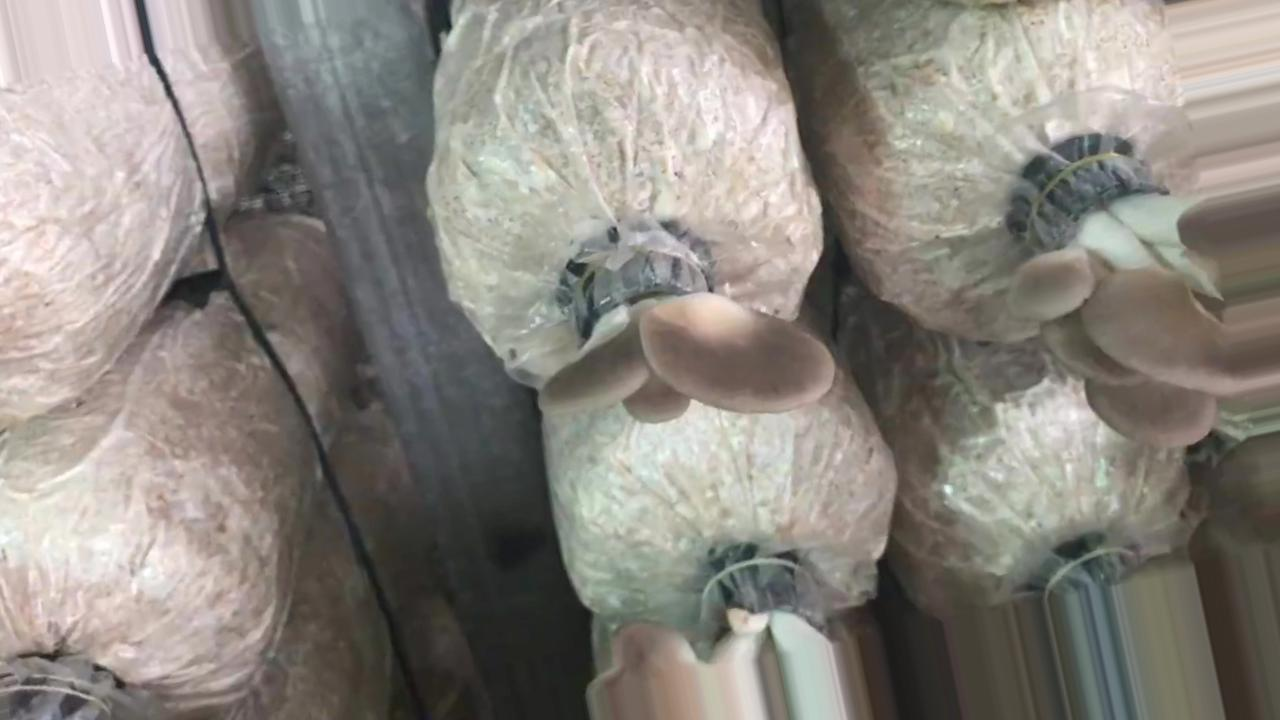nam: (1011, 135, 1280, 447), (536, 220, 839, 423)
